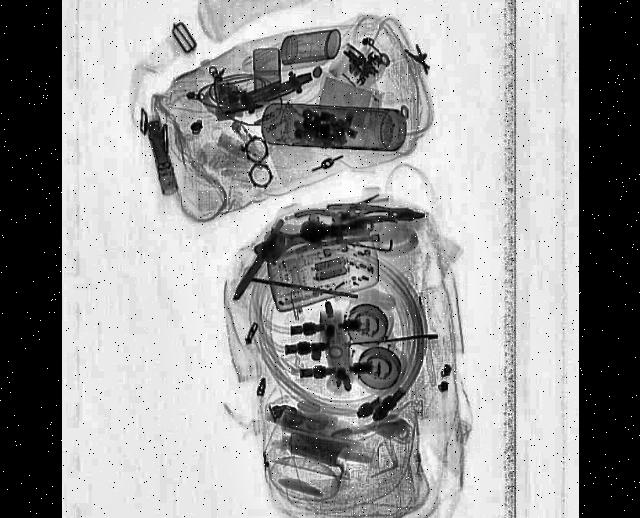Pliers: (294, 209, 392, 230)
